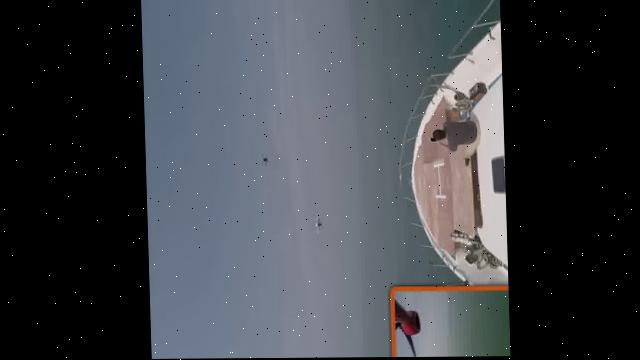drone: (303, 210, 324, 244), (251, 151, 273, 170)
